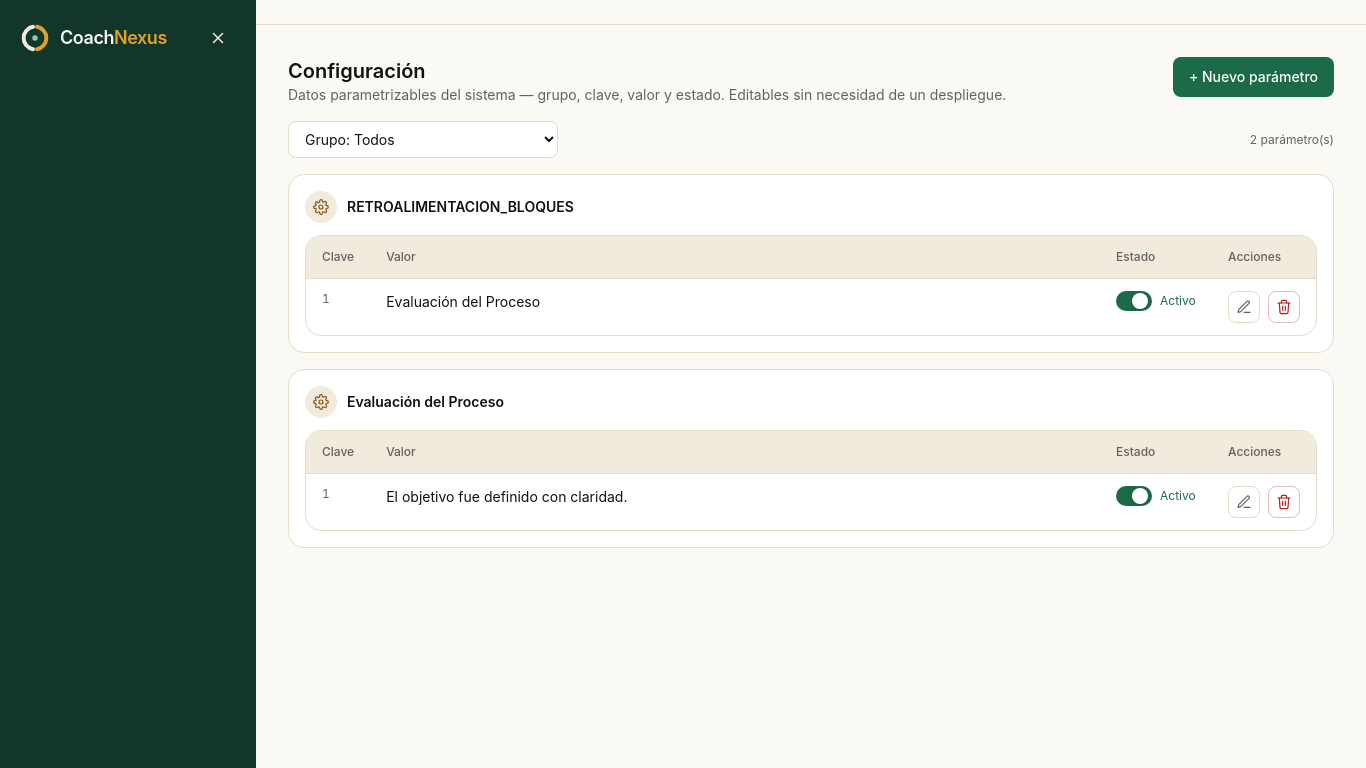
Test: ConfiguracionView › filters by grupo
The width and height of the screenshot is (1366, 768).
Select "RETROALIMENTACION_BLOQUES" in the dropdown named "Filtrar por grupo" at (423, 140), box [288,121,558,158]
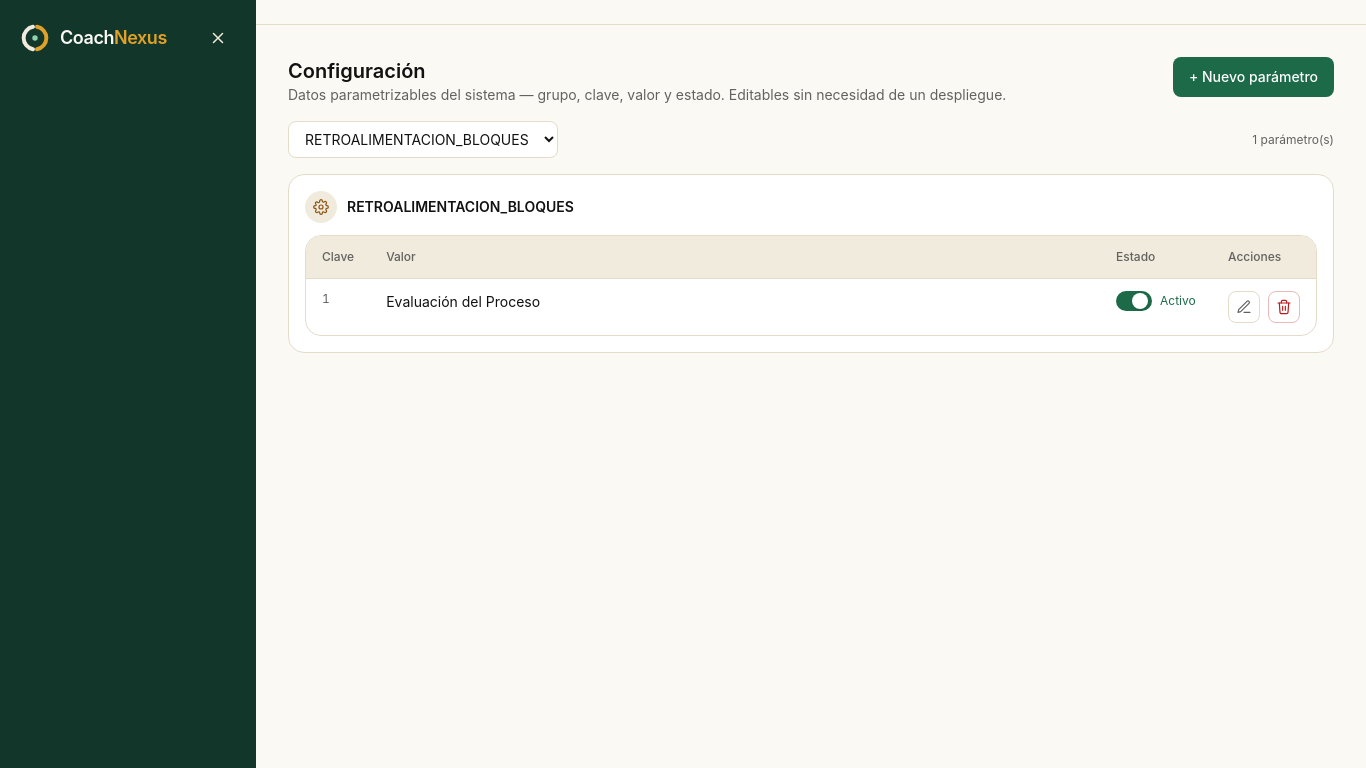
Result: the text "1 parámetro(s)" is shown at [1252,132,1334,148]
Result: the text "El objetivo fue definido con claridad." is gone
